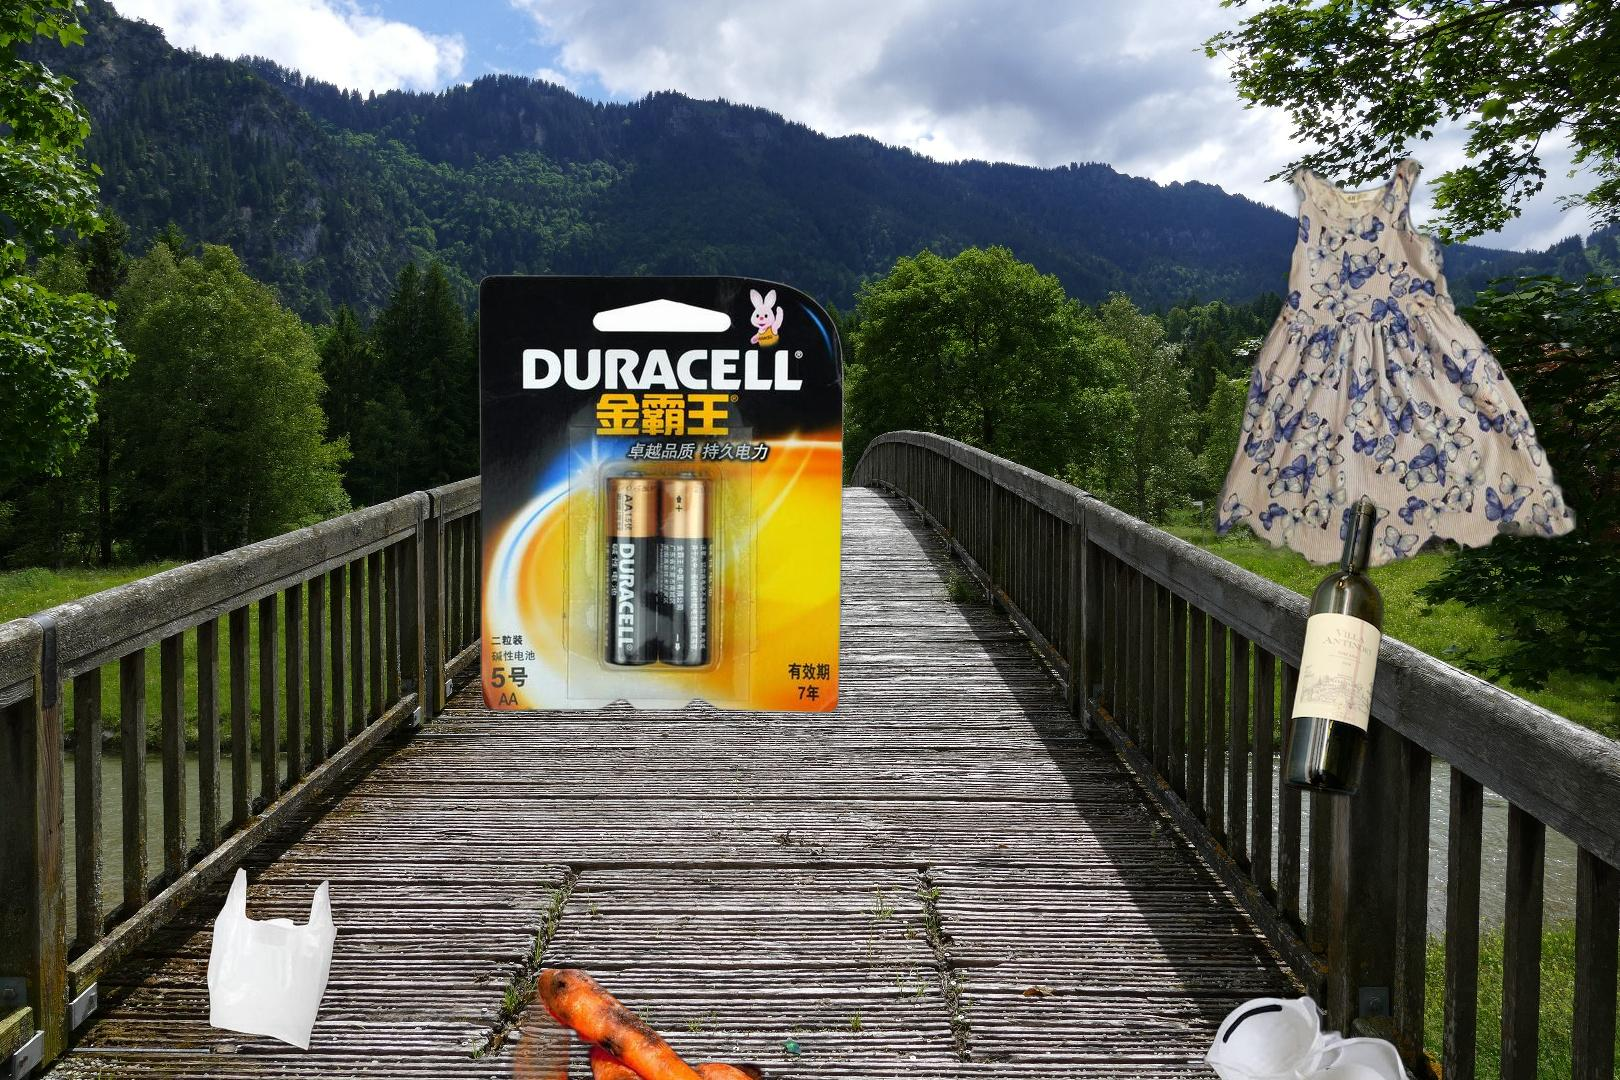battery: (475, 270, 849, 718)
biological: (505, 969, 765, 1080)
clothes: (1207, 153, 1580, 581)
glass: (1276, 494, 1389, 804)
plastic-bag: (204, 865, 339, 1053)
plastic-bottles: (1032, 1067, 1235, 1080)
trash: (1199, 984, 1419, 1080)
